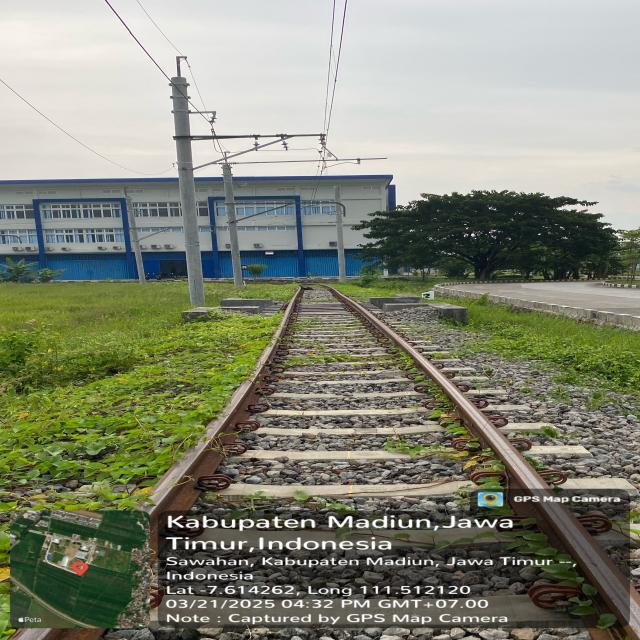rail-detection: (323, 286, 640, 636), (150, 288, 304, 551)
